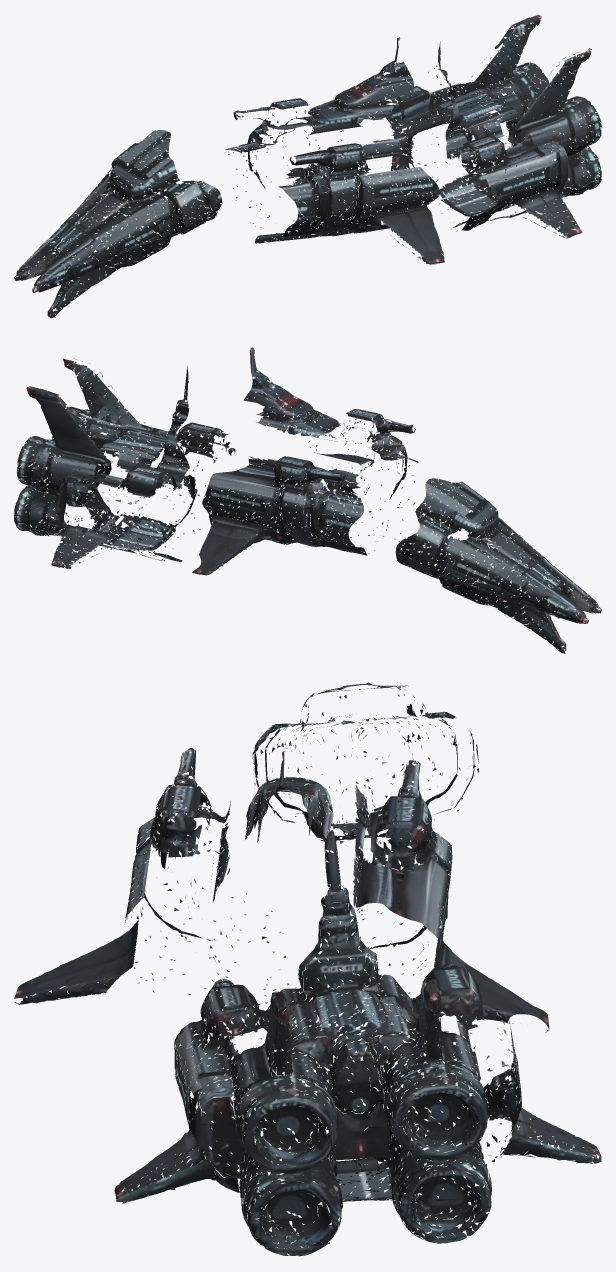
File: concord-battleship-wreck-v4.glb
3 renders of one model, top to bottom at view 1: azimuth 30°, elevation 25°; view 2: azimuth 150°, elevation 25°; view 3: azimuth 270°, elevation 25°, orthographic. The views are drawn at different scales.
Visible parts, largest first — view 1: Battleship wreck forward section, Battleship wreck midsection, Battleship wreck engine section; view 2: Battleship wreck forward section, Battleship wreck midsection, Battleship wreck engine section; view 3: Battleship wreck forward section, Battleship wreck midsection, Battleship wreck engine section.
Part boxes in pixels (box(x1,y1,x2,y2)): Battleship wreck forward section: box(382, 14, 601, 238); Battleship wreck midsection: box(224, 37, 444, 264); Battleship wreck engine section: box(14, 130, 222, 318); Battleship wreck forward section: box(14, 356, 229, 568); Battleship wreck midsection: box(192, 347, 418, 575); Battleship wreck engine section: box(395, 478, 601, 653); Battleship wreck forward section: box(114, 830, 601, 1256); Battleship wreck midsection: box(14, 748, 549, 1037); Battleship wreck engine section: box(252, 682, 478, 846).
Bounding box in the file's own units: 2.23 × 0.8218 × 1.17.
Materials: 1 (1 with a texture image).
